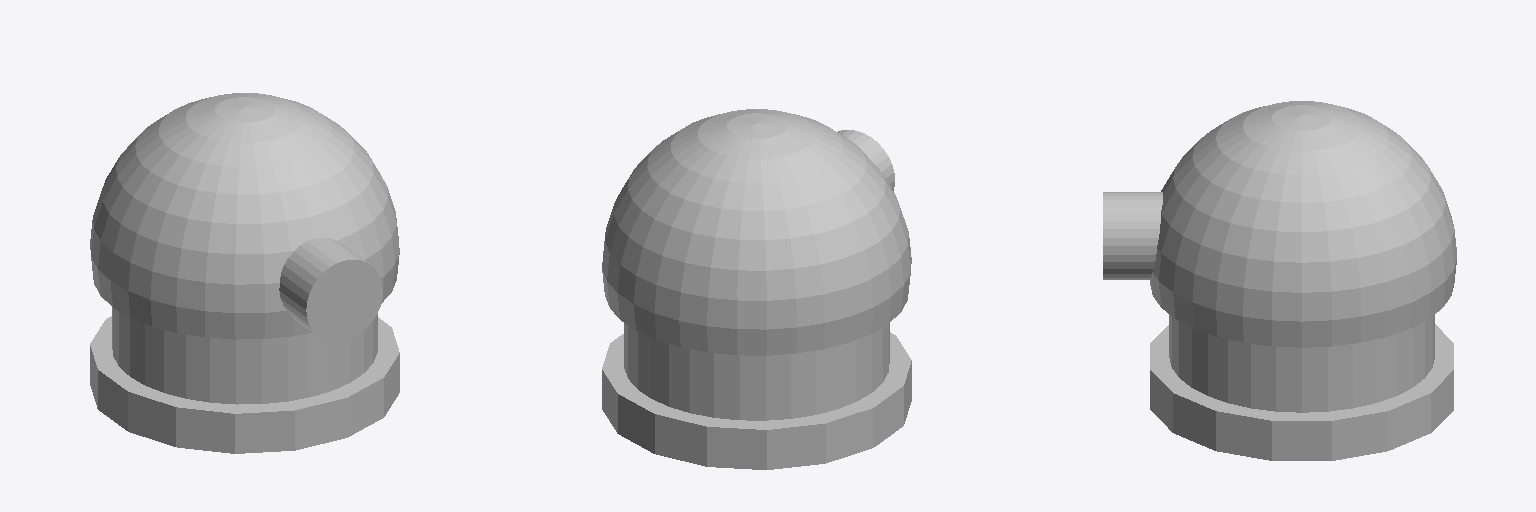
File: turret.obj
3 views of the same model, side by side, from view 1: azimuth 30°, elevation 25°; view 2: azimuth 150°, elevation 25°; view 3: azimuth 270°, elevation 25° (orthographic).
Visible parts, largest first — view 1: Cylinder; view 2: Cylinder; view 3: Cylinder.
Boxes of the visible parts, x1=… form: Cylinder: x1=90, y1=93, x2=399, y2=453; Cylinder: x1=602, y1=109, x2=911, y2=469; Cylinder: x1=1103, y1=101, x2=1456, y2=460.
Bounding box in the file's own units: 1.4 × 1.4 × 1.6.